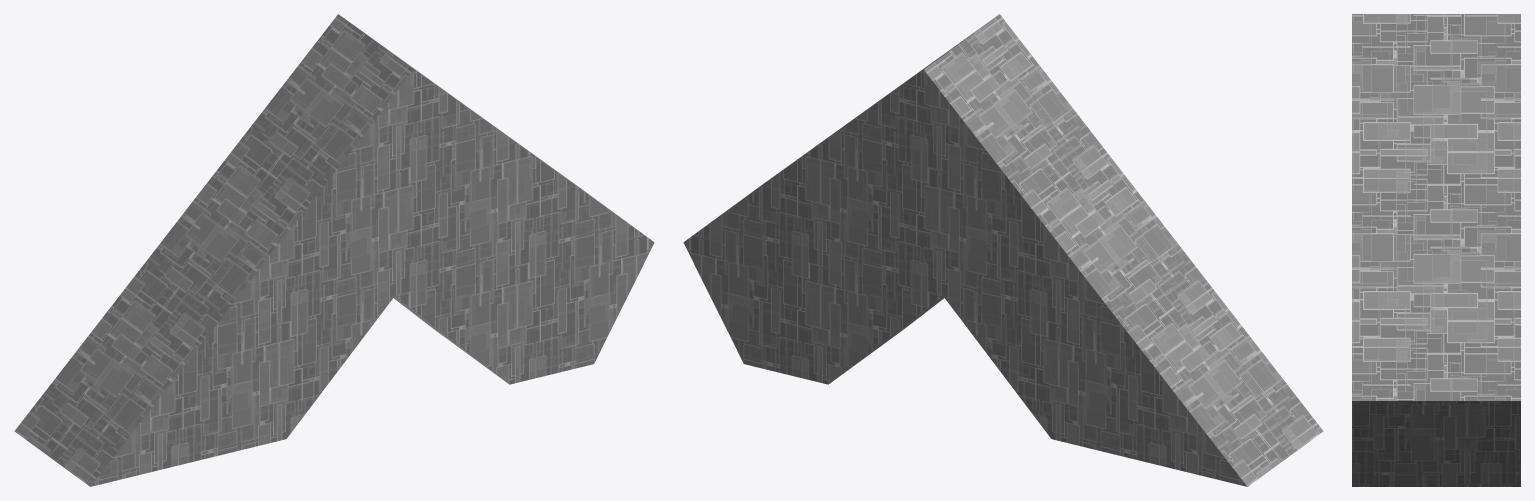
File: SM_triangle_arch.glb
3 renders of one model, left to right at view 1: azimuth 30°, elevation 25°; view 2: azimuth 150°, elevation 25°; view 3: azimuth 270°, elevation 25°, orthographic. The views are drawn at different scales.
Visible parts, largest first — view 1: SM_triangle_arch; view 2: SM_triangle_arch; view 3: SM_triangle_arch.
Boxes of the visible parts, box(x1,y1,x2,y2) form: SM_triangle_arch: box(14, 14, 654, 486); SM_triangle_arch: box(683, 14, 1323, 486); SM_triangle_arch: box(1352, 14, 1520, 486).
Bounding box in the file's own units: 38.03 × 21.79 × 8.88.
Materials: 1 (1 with a texture image).
